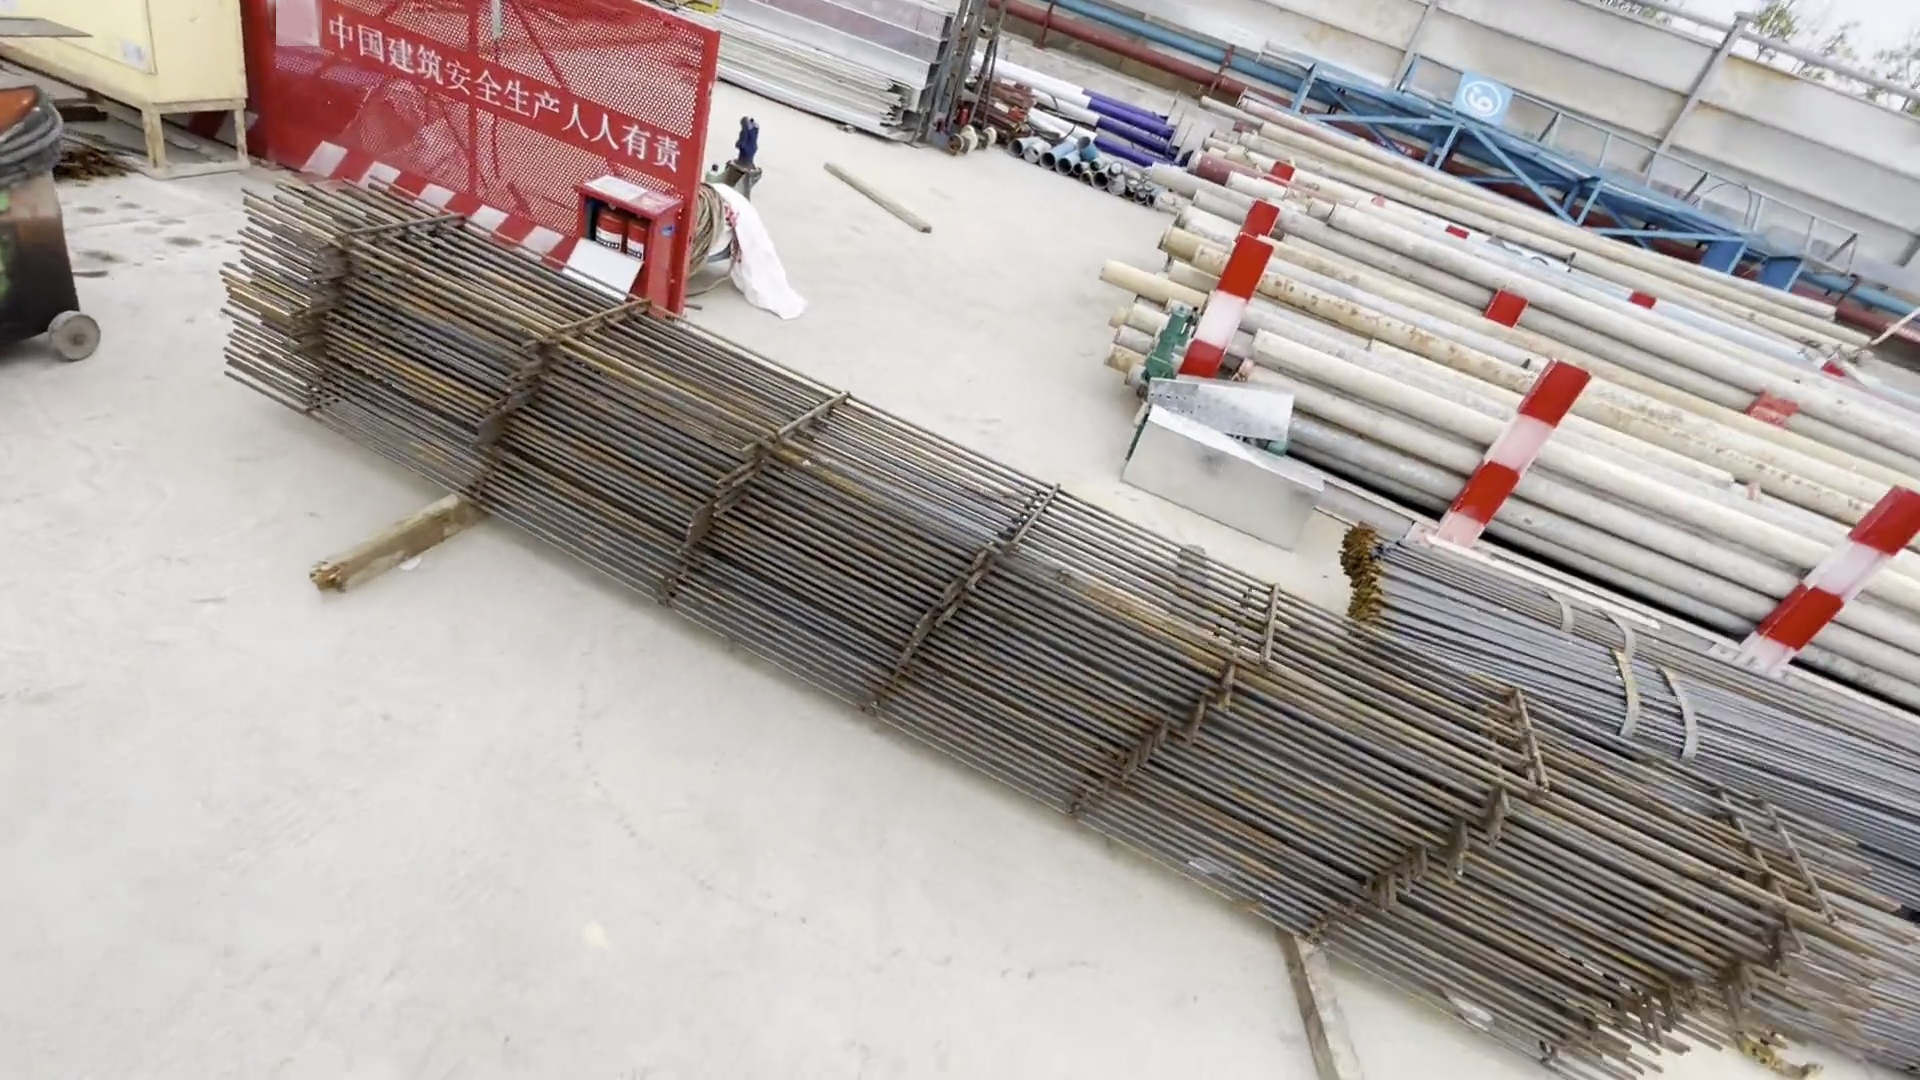fence: (260, 1, 721, 331)
rebar: (225, 171, 1920, 1080), (1323, 527, 1920, 891)
slogan: (320, 8, 686, 175)
